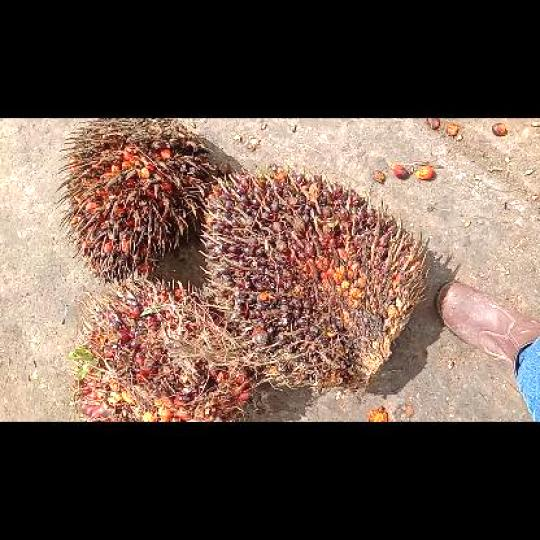kurang masak: (204, 167, 430, 394)
masak: (74, 283, 269, 421)
terlalu masak: (65, 119, 215, 278)
